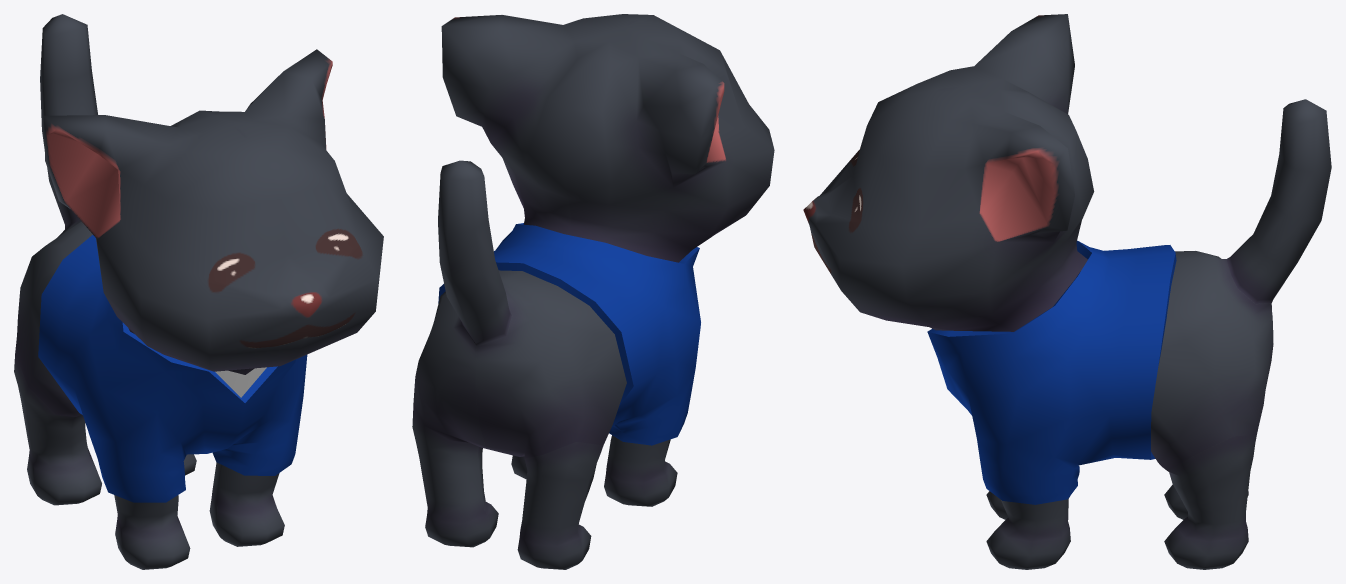
The model's file is Nurse Cat03.fbx.
The picture shows the model from 3 angles, left to right: view 1: azimuth 30°, elevation 25°; view 2: azimuth 150°, elevation 25°; view 3: azimuth 270°, elevation 25°; orthographic projection. The views are drawn at different scales.
Parts seen in each view (by area): view 1: Cat_Base002, Nurse_Cat_Scrubs; view 2: Cat_Base002, Nurse_Cat_Scrubs; view 3: Cat_Base002, Nurse_Cat_Scrubs.
Boxes of the visible parts, <box> form: Cat_Base002: <box>14,14,383,569</box>; Nurse_Cat_Scrubs: <box>38,235,307,502</box>; Cat_Base002: <box>412,14,774,569</box>; Nurse_Cat_Scrubs: <box>438,223,700,445</box>; Cat_Base002: <box>803,14,1331,569</box>; Nurse_Cat_Scrubs: <box>927,240,1176,504</box>.
Size of the model in its own units: 1.75 by 2.83 by 2.68.
Materials: 3 (1 with a texture image).
